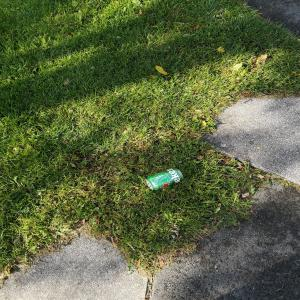Can: (146, 169, 185, 192)
